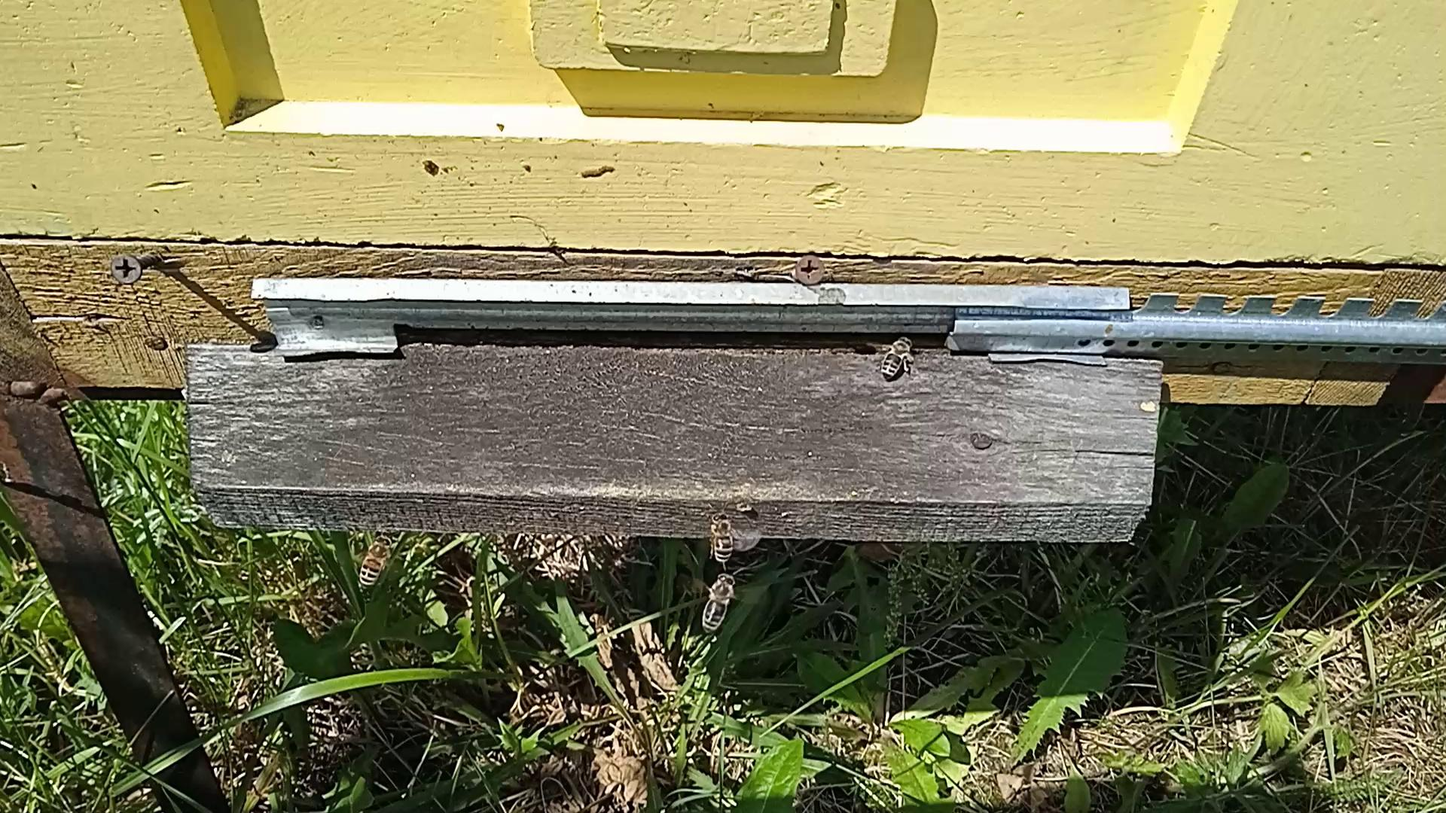worker-bee: (701, 572, 737, 633), (358, 533, 394, 589), (877, 335, 916, 381), (708, 511, 735, 564)
